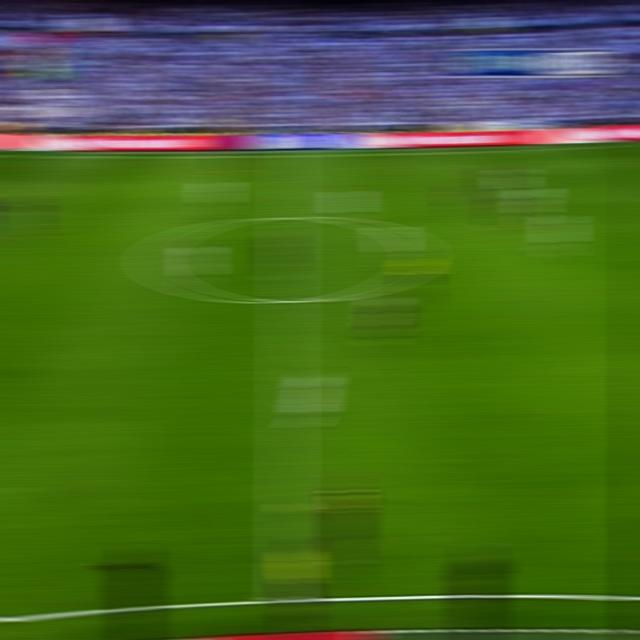halfcircle_bottom: (273, 288, 301, 314)
halfcircle_top: (274, 203, 302, 228)
midline_bottom_intersection: (270, 582, 301, 608)
midline_top_intersection: (275, 148, 301, 164)
